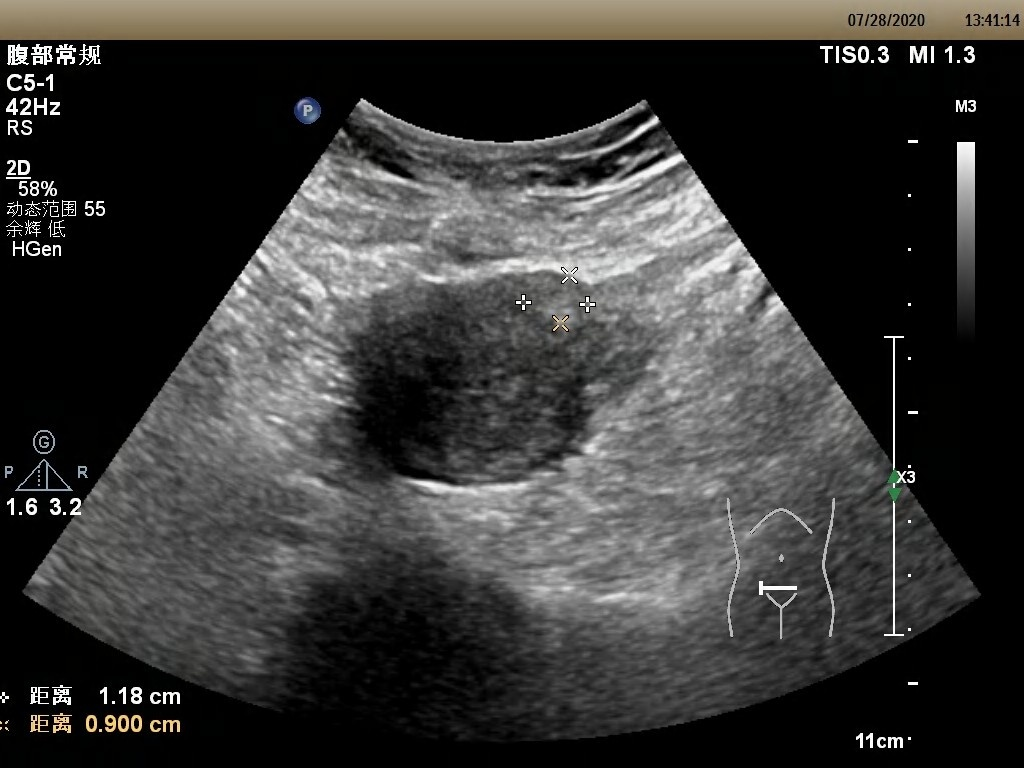肌瘤: (524, 274, 588, 324)
